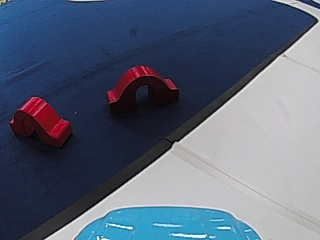bridge: (104, 61, 182, 114), (10, 95, 74, 148)
